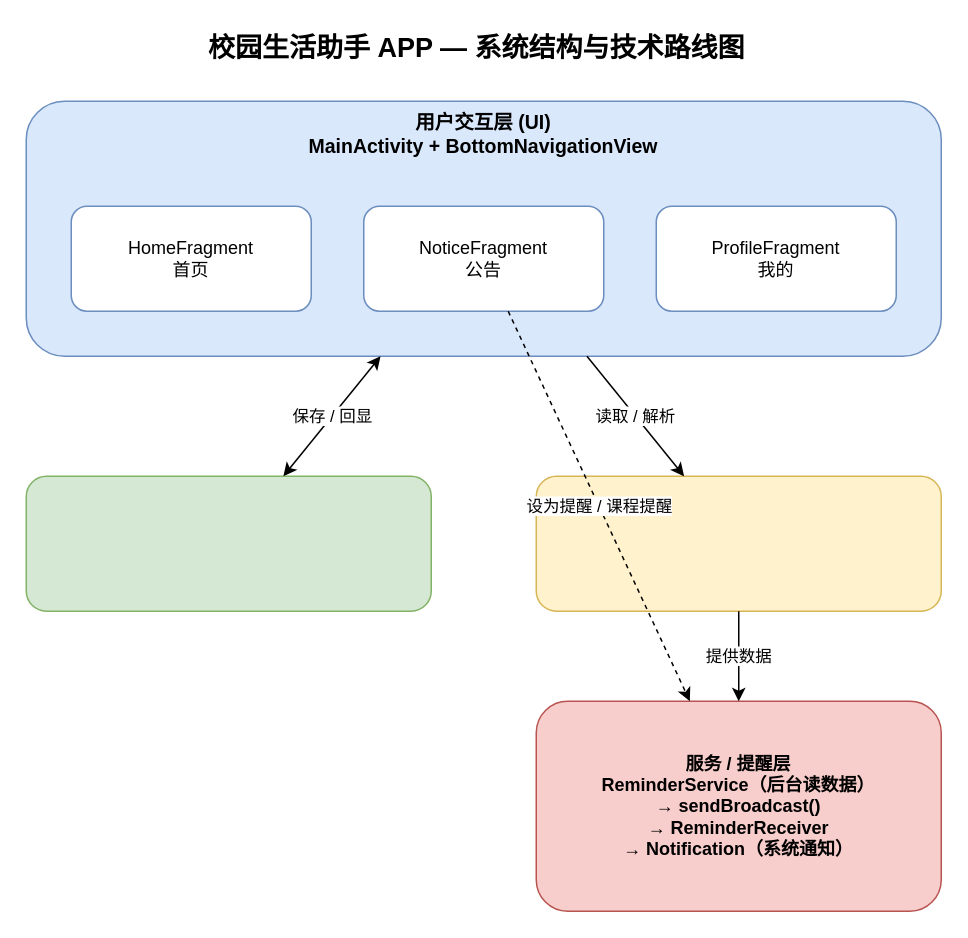
Some shapes in this 968 by 938 pixel diagram are drawn without their labels. Each missing label, with the centre of its shape:
本地数据保存层 SharedPreferences （多字段持久化）: point (228, 543)
资源 / 数据读取层 assets/notices.json NoticeRepository（JSON 解析）: point (738, 543)
